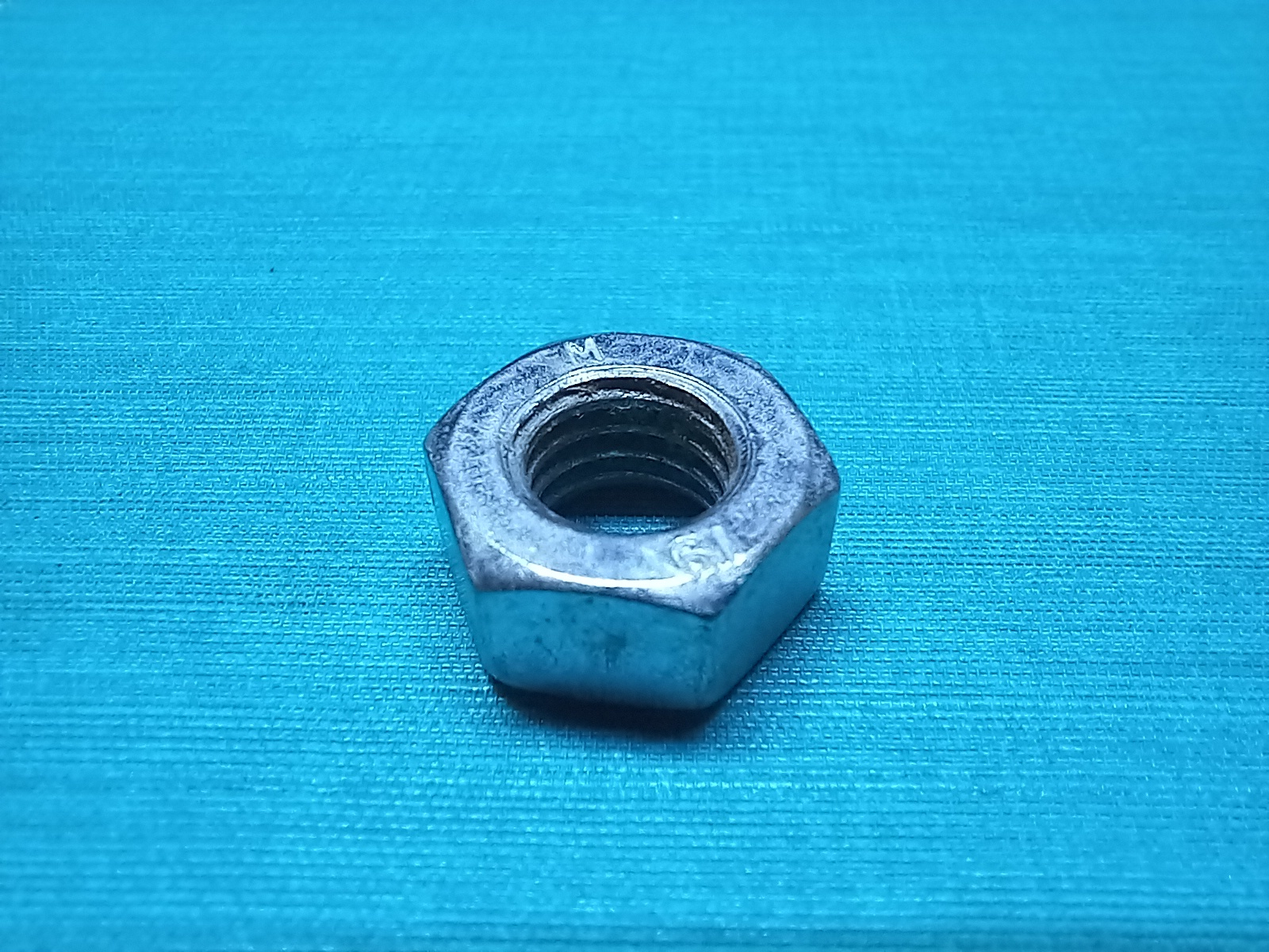nut: (403, 309, 842, 756)
